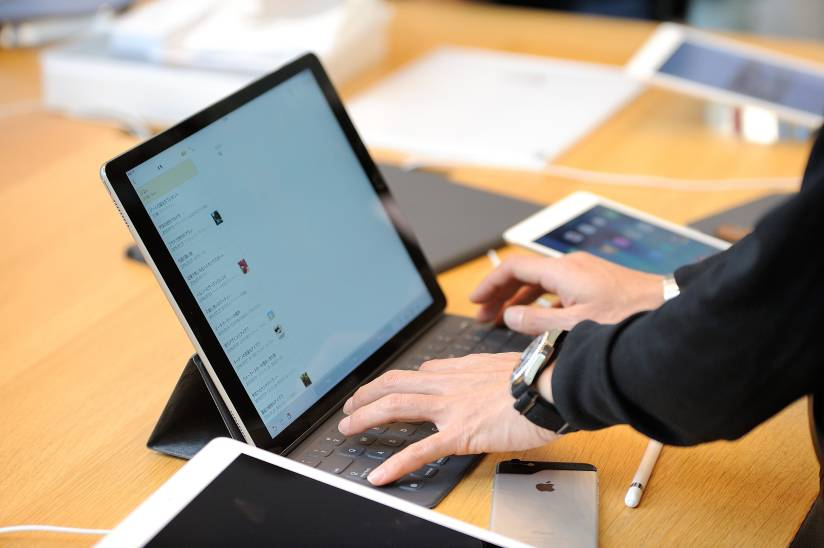Cell Phone: (501, 191, 773, 305)
